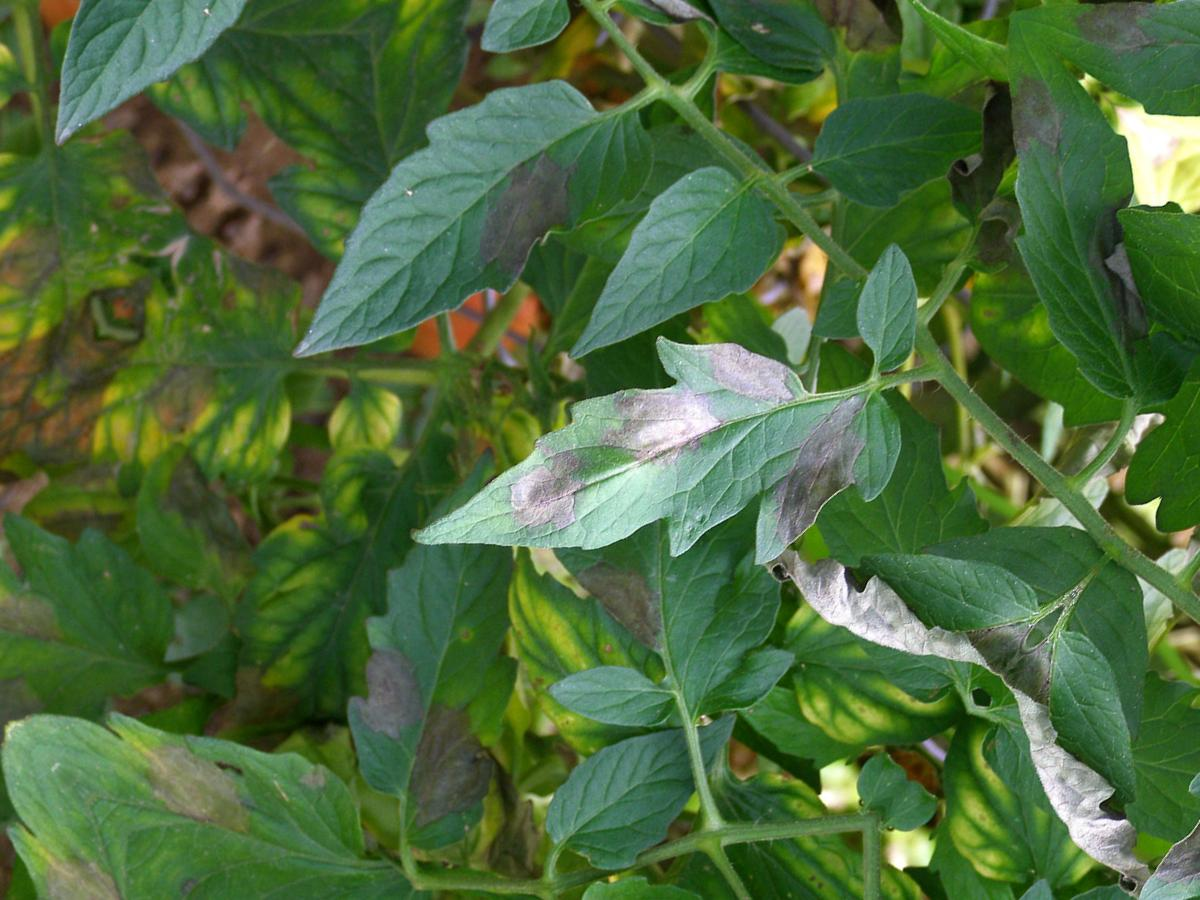Tomato leaf late blight: (424, 223, 922, 733), (241, 3, 673, 454), (831, 0, 1200, 435), (6, 582, 491, 900), (264, 486, 653, 881), (636, 0, 880, 120), (546, 819, 760, 900)
